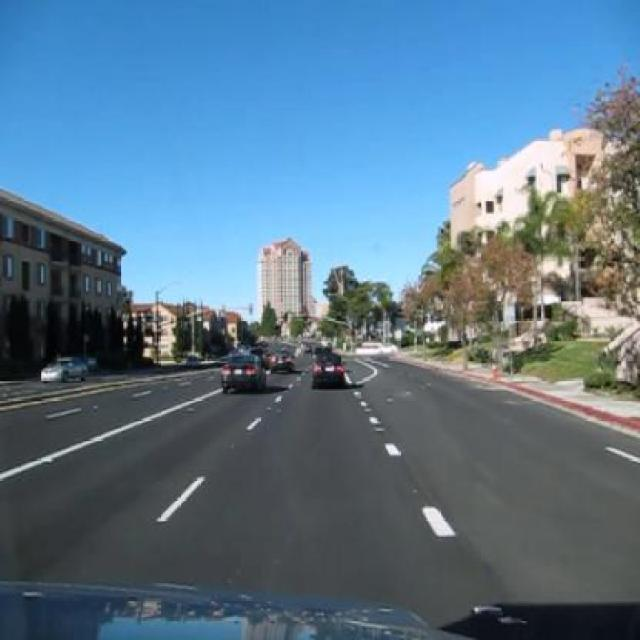speedLimit25: (503, 304, 515, 324)
